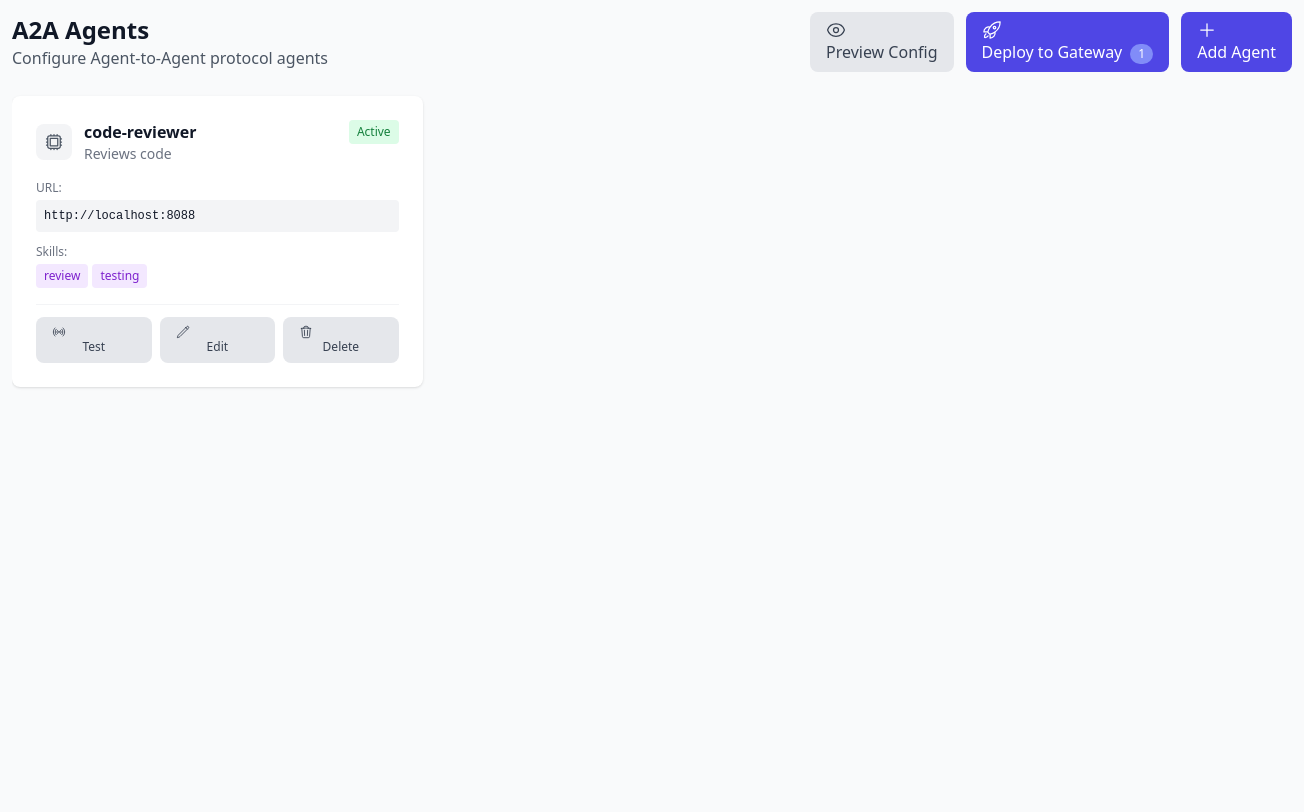
Test: Agents › opens edit form with pre-filled data when Edit is clicked
Click the button "Edit": (217, 340) [160,317,275,363]
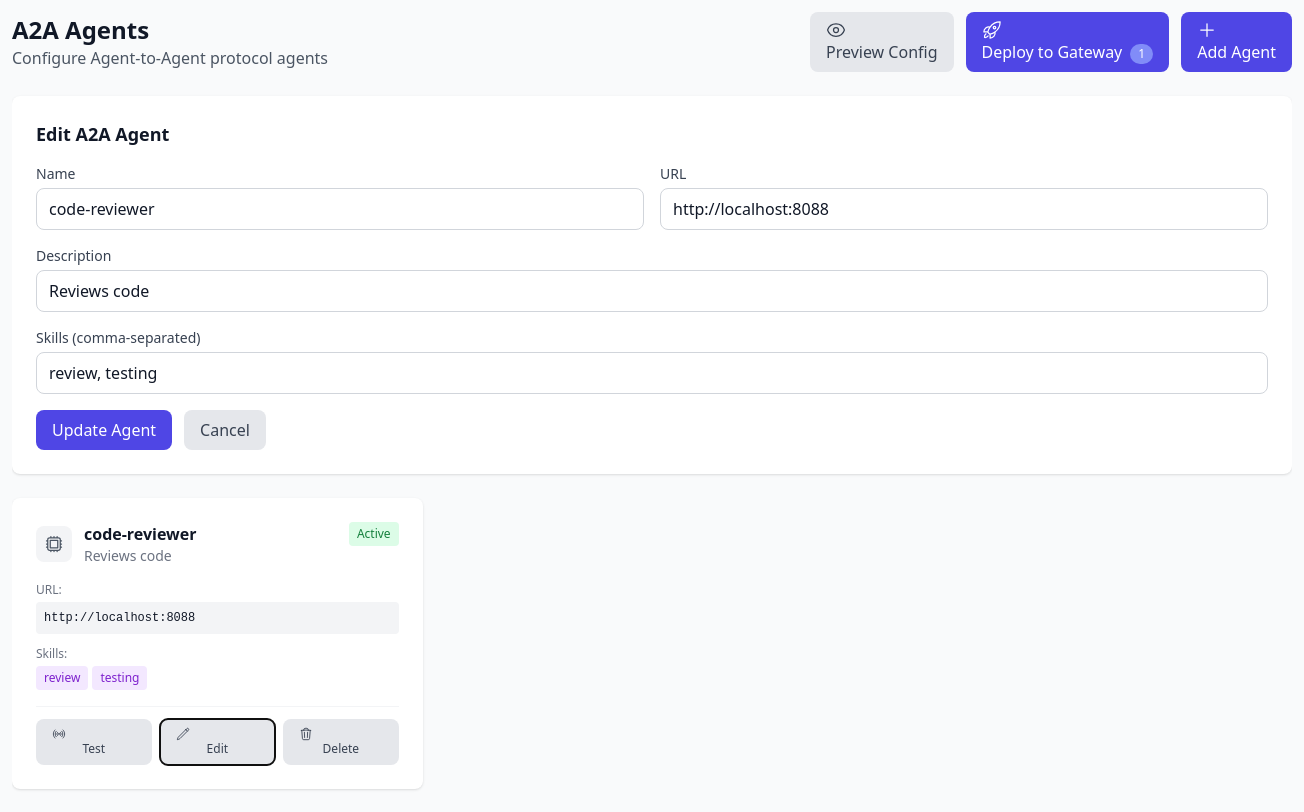
expect the heading "Edit A2A Agent" is shown: met, box [36,122,169,146]
expect the field labelled "Name" holds "code-reviewer": met, box [36,188,644,230]
expect the field labelled "URL" holds "http://localhost:8088": met, box [660,188,1268,230]
